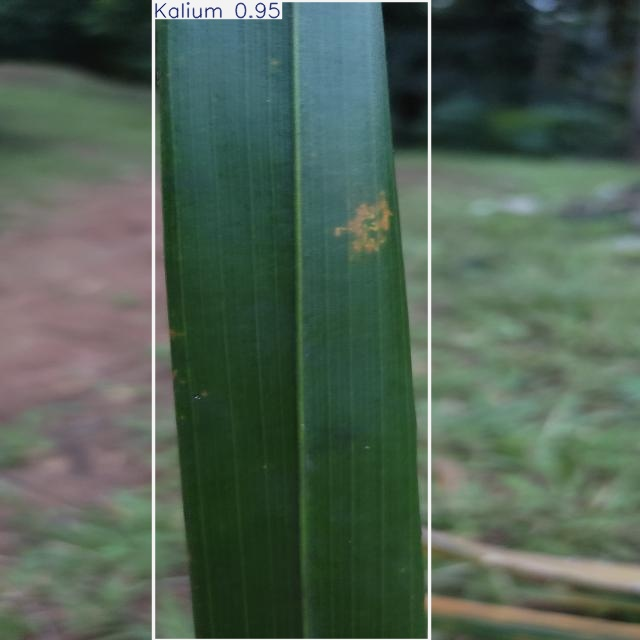Kalium: (154, 0, 429, 640)
